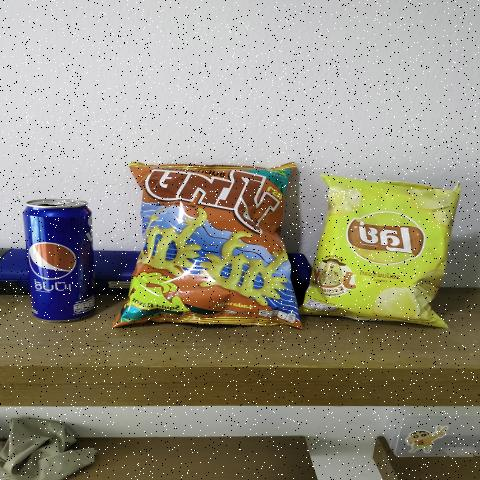pepsi_blue: (25, 195, 96, 327)
